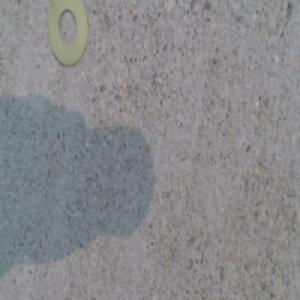Washer: (47, 3, 87, 73)
